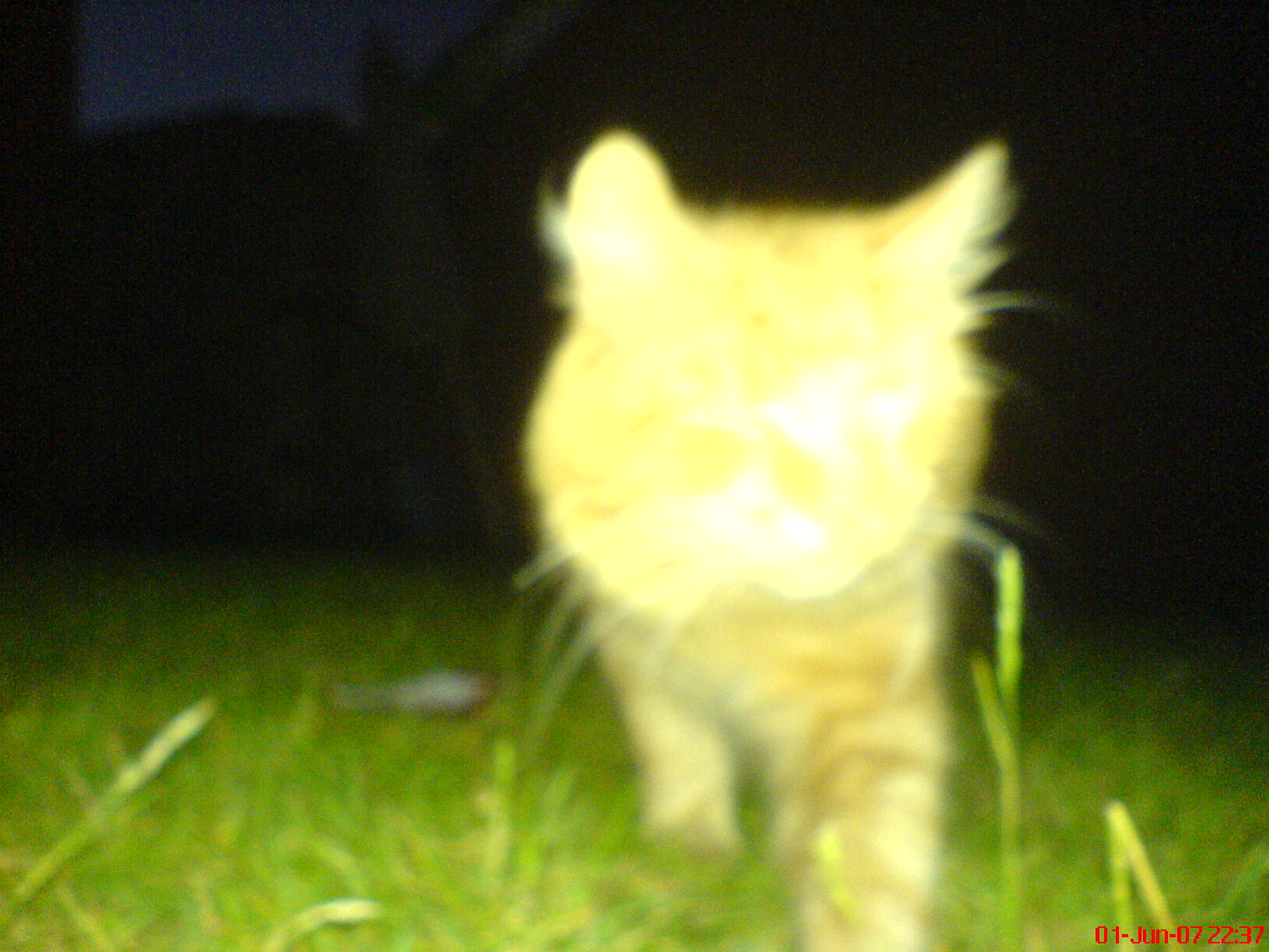cat: (526, 134, 1070, 941)
